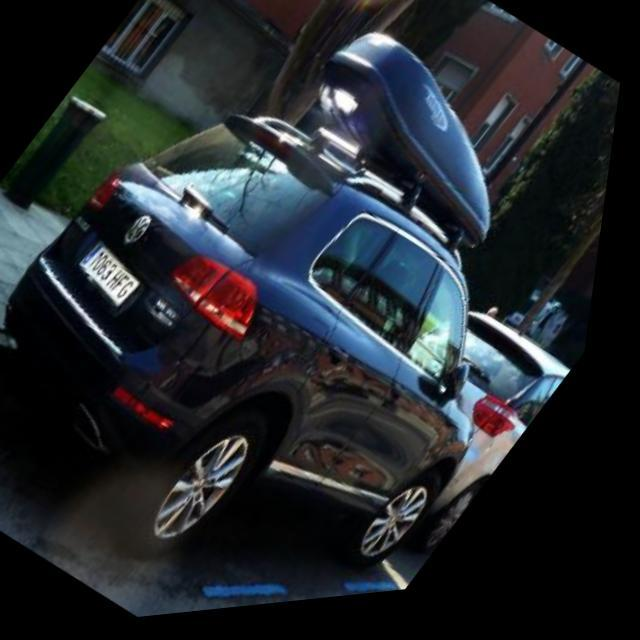license_plate: (72, 238, 162, 318)
